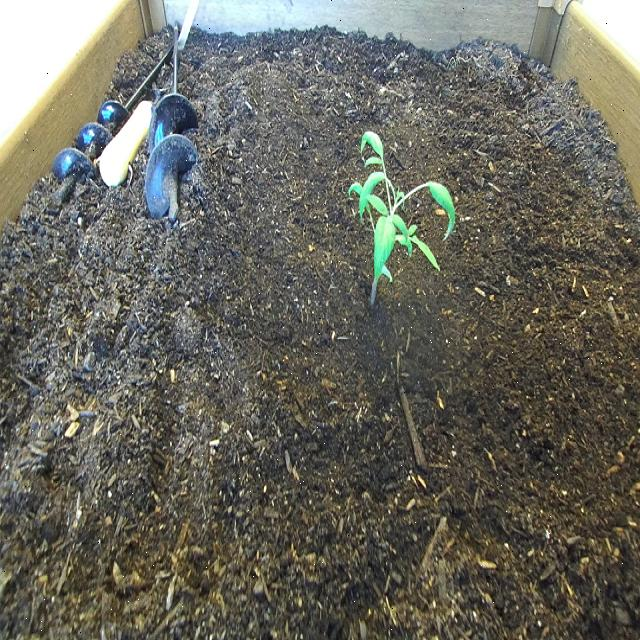Healthy: (346, 118, 460, 319)
